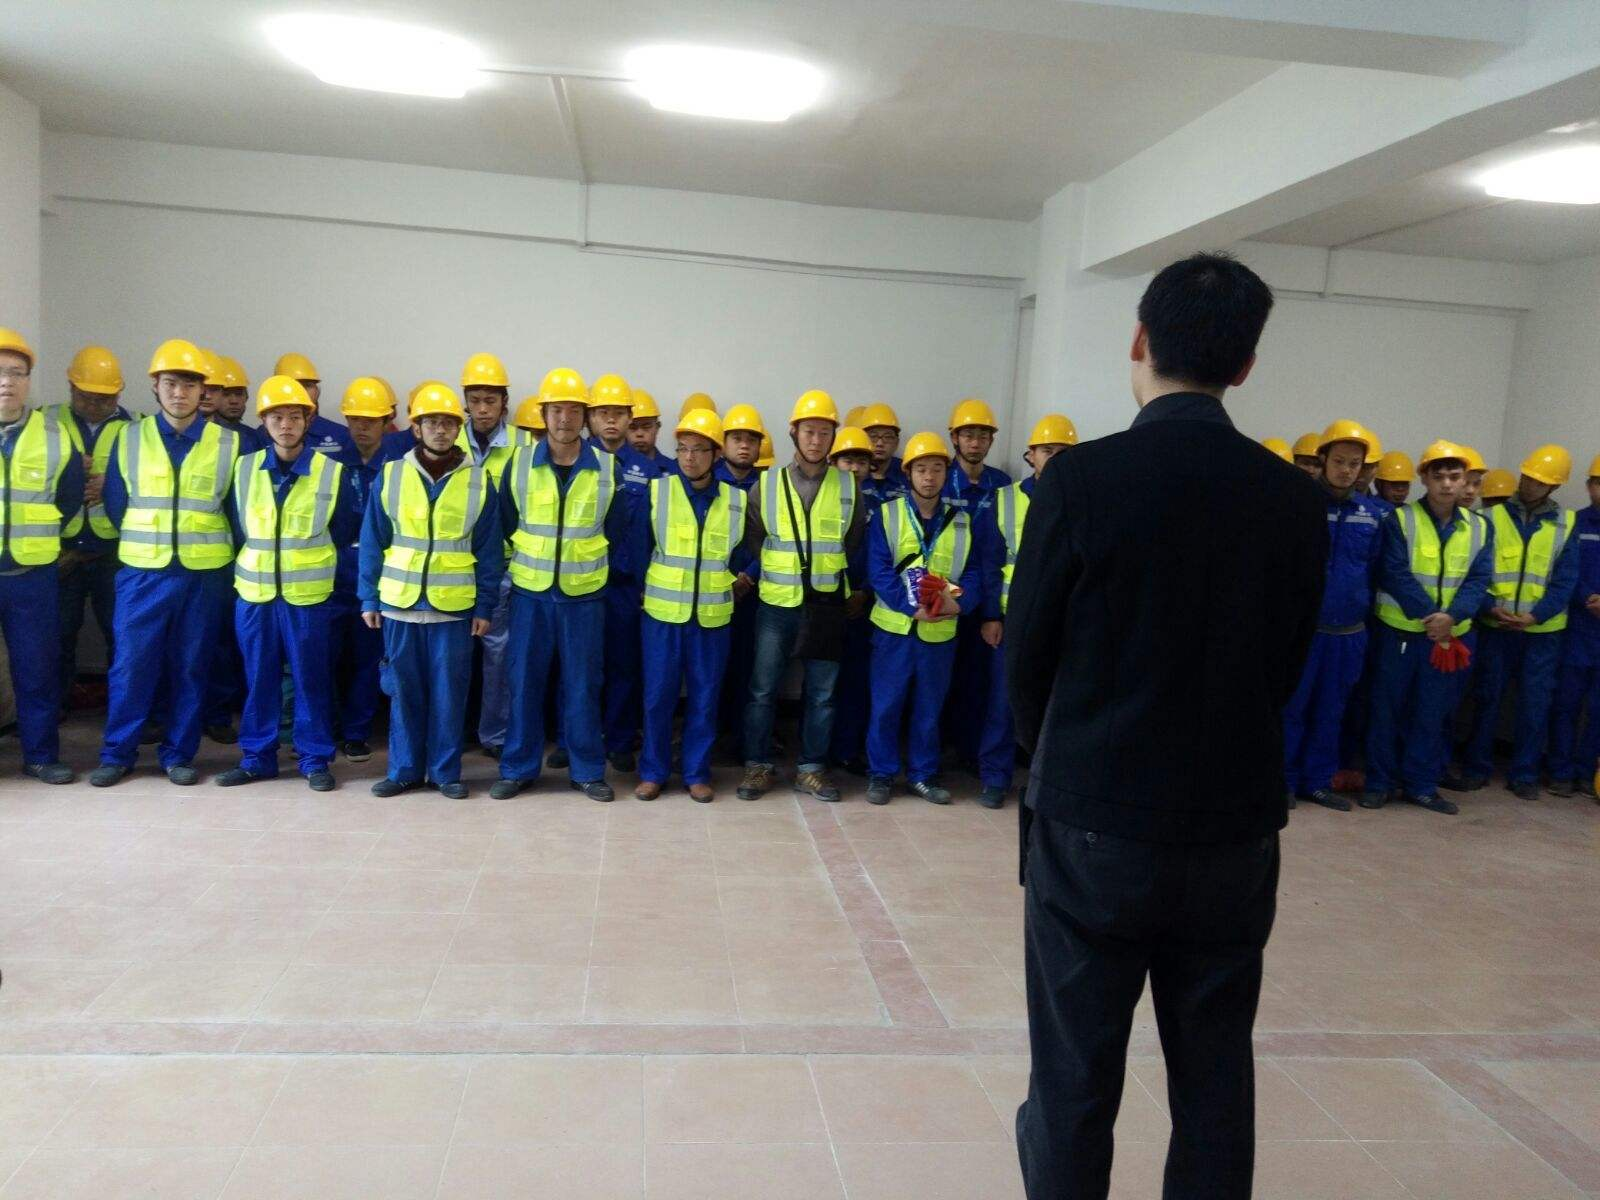head: (1130, 247, 1279, 414)
ordinary_clothes: (1003, 418, 1337, 825)
person: (1008, 245, 1330, 1200), (83, 337, 244, 792), (350, 380, 507, 803), (212, 371, 359, 793), (487, 364, 626, 805), (737, 385, 870, 806), (1359, 435, 1497, 814), (867, 427, 1001, 805), (632, 406, 750, 802), (979, 406, 1084, 808), (1, 324, 89, 788), (1477, 437, 1587, 801), (1292, 409, 1391, 816)
reflective_vest: (114, 410, 243, 572), (373, 452, 493, 616), (228, 444, 344, 611), (507, 443, 617, 597), (643, 471, 748, 630), (1376, 502, 1490, 637), (867, 495, 971, 643), (757, 464, 858, 609), (1484, 500, 1577, 630), (1, 412, 74, 563), (993, 479, 1034, 613)
safety_helmet: (146, 336, 212, 419), (405, 379, 471, 459), (253, 371, 320, 448), (336, 371, 397, 453), (1313, 411, 1372, 493), (537, 362, 591, 450), (457, 347, 510, 433), (788, 387, 841, 472), (670, 405, 726, 485), (65, 348, 127, 420), (947, 391, 1001, 464), (1514, 438, 1576, 501), (900, 427, 951, 500), (1416, 436, 1471, 504), (1025, 409, 1078, 479), (720, 397, 768, 470), (589, 368, 634, 446), (1, 325, 38, 413), (853, 397, 900, 464), (827, 424, 876, 487), (1373, 447, 1417, 504), (218, 354, 251, 422), (627, 389, 663, 453), (1478, 464, 1519, 506)
